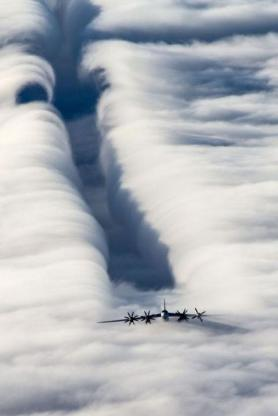Su57: (96, 297, 230, 325)
